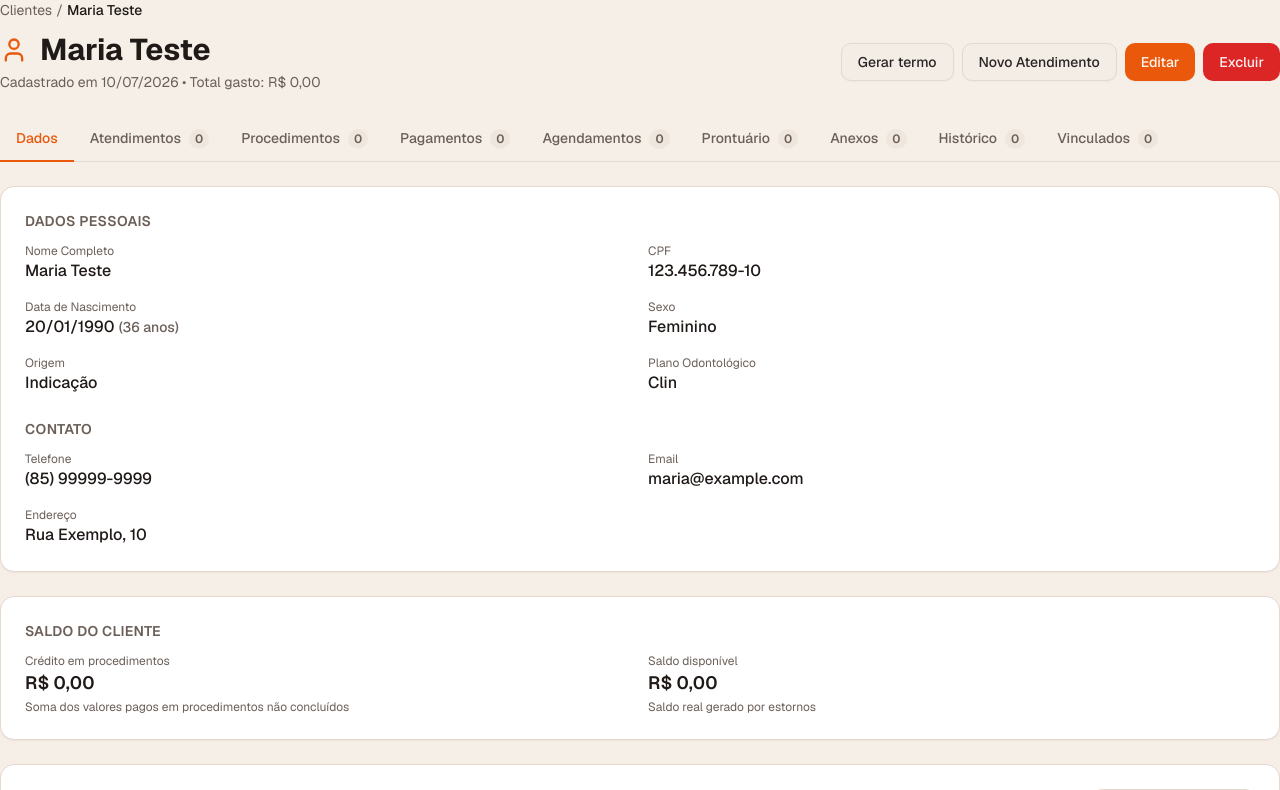
Test: ClienteDetalhePage › indica quando o termo selecionado é somente para impressão
Click the button "Gerar termo" at coordinates (897, 62), box [841,43,954,81]
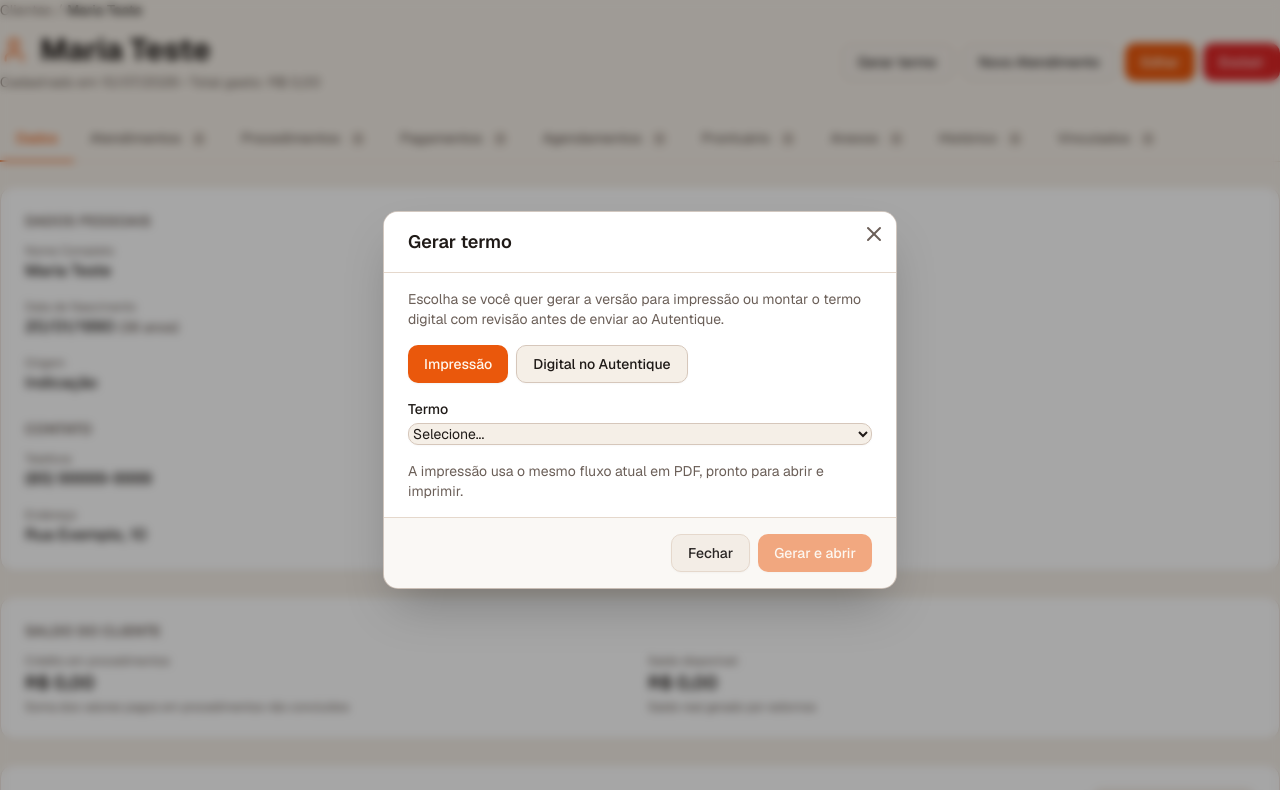
Click the button "Digital no Autentique" at coordinates (602, 364), box [516,345,688,383]
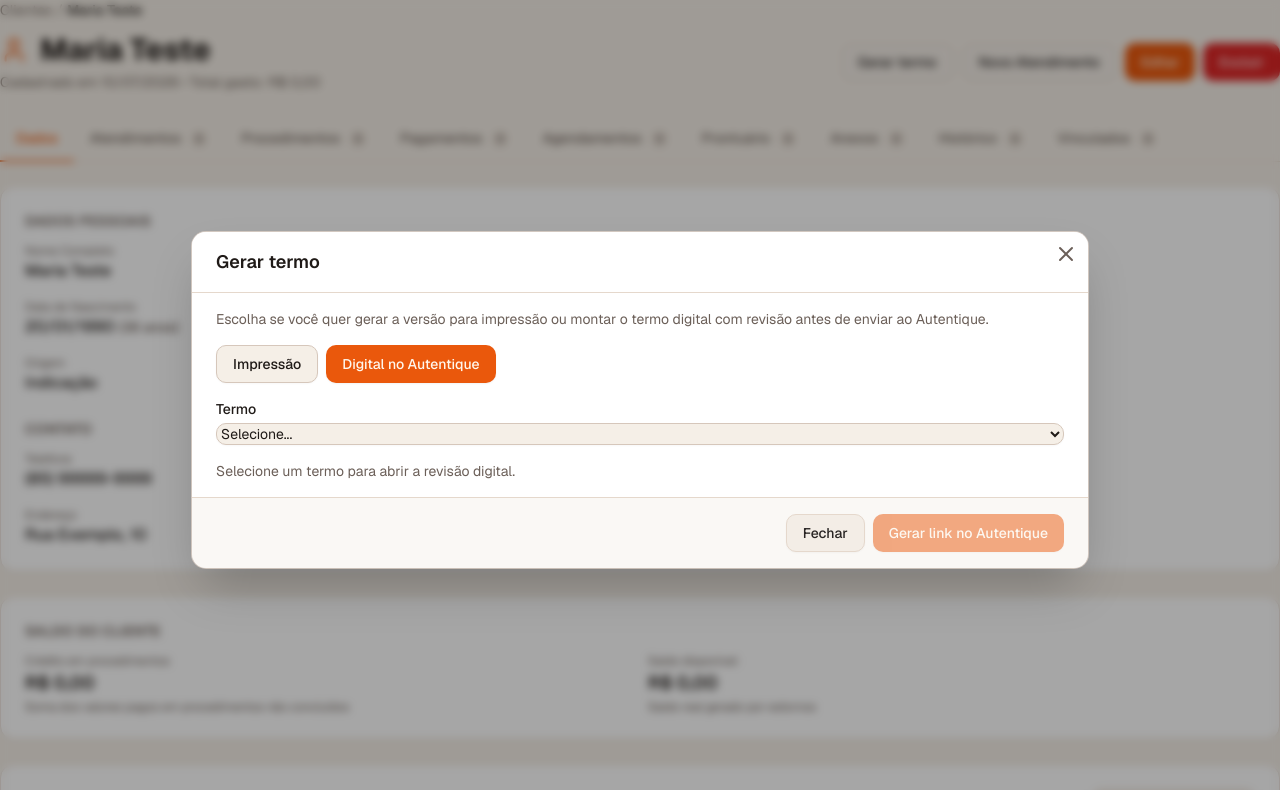
Select "Referência implante (somente impressão)" in the dropdown at coordinates (640, 434), box [216,423,1064,445]
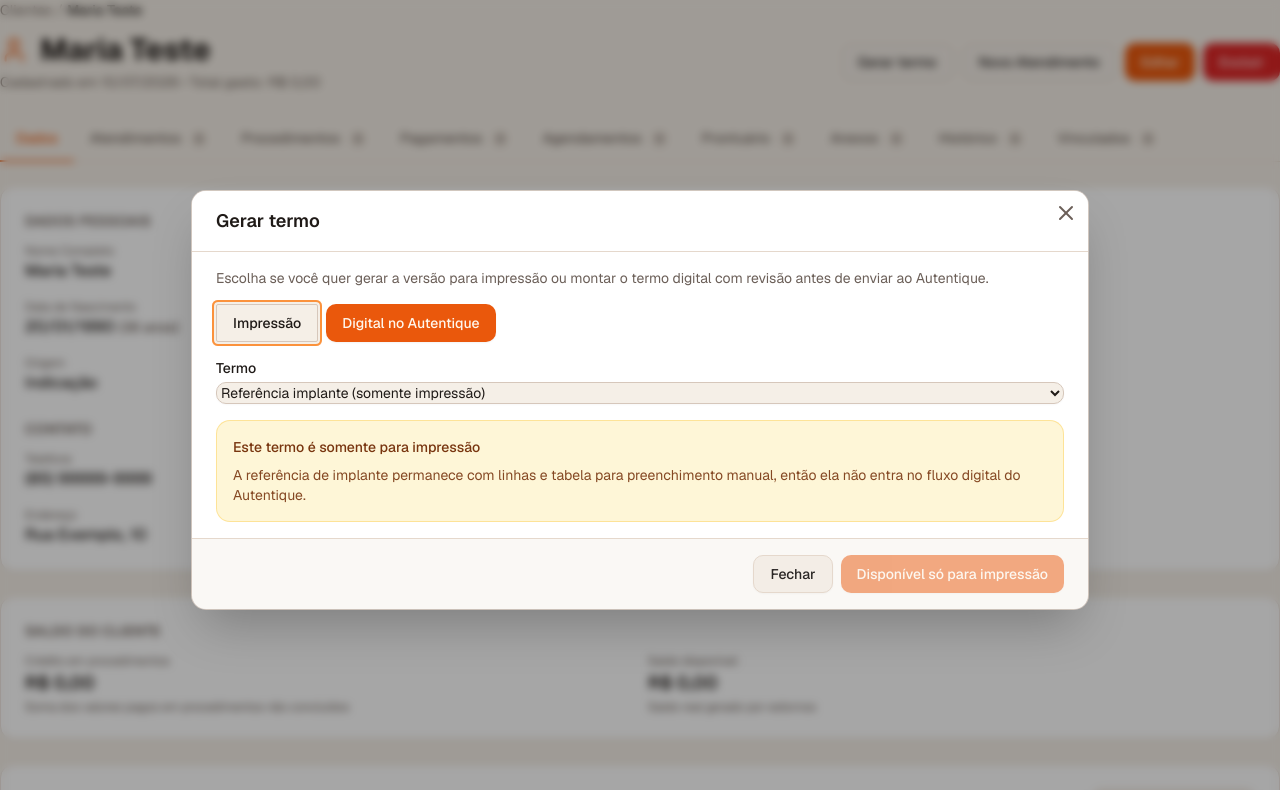
Expected: the button "Disponível só para impressão" is disabled, [841,555,1064,593]
Expected: the text "Este termo é somente para impressão" is shown, [233,438,480,456]
